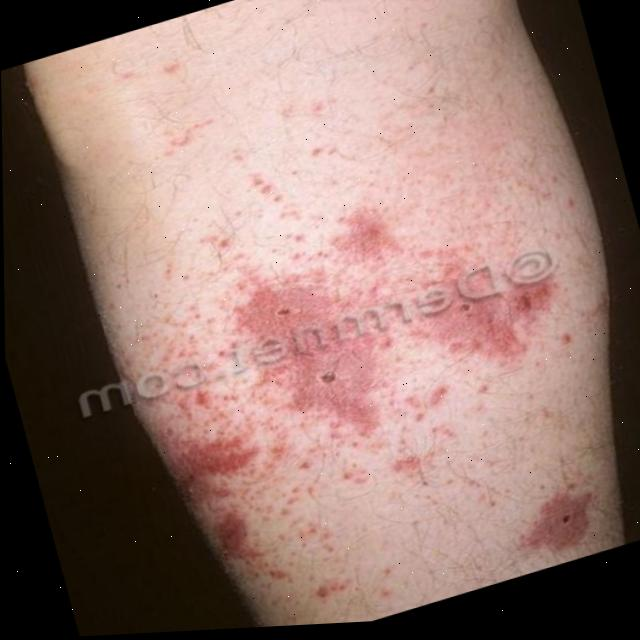Eczema: (103, 177, 559, 550), (505, 459, 604, 561)
